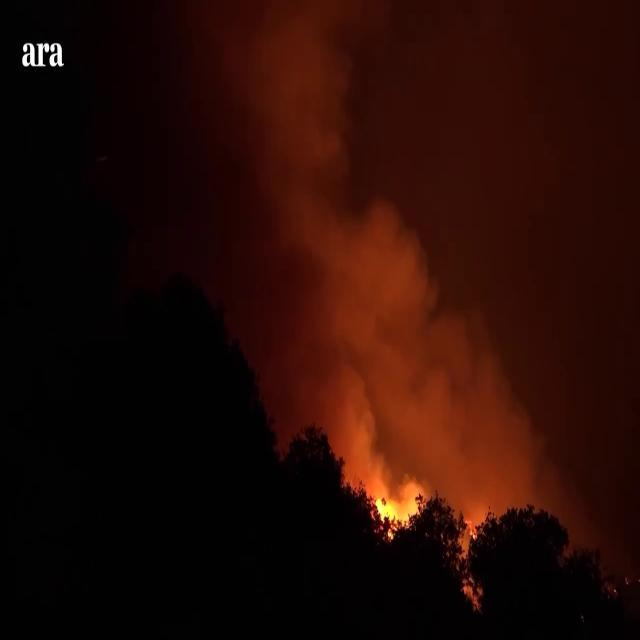Fire: (371, 487, 421, 540)
Smoke: (146, 1, 602, 503)
